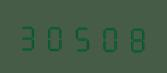eight: (122, 20, 147, 54)
five: (70, 19, 95, 53)
three: (18, 18, 43, 52)
zero: (44, 19, 69, 52), (96, 20, 121, 53)
